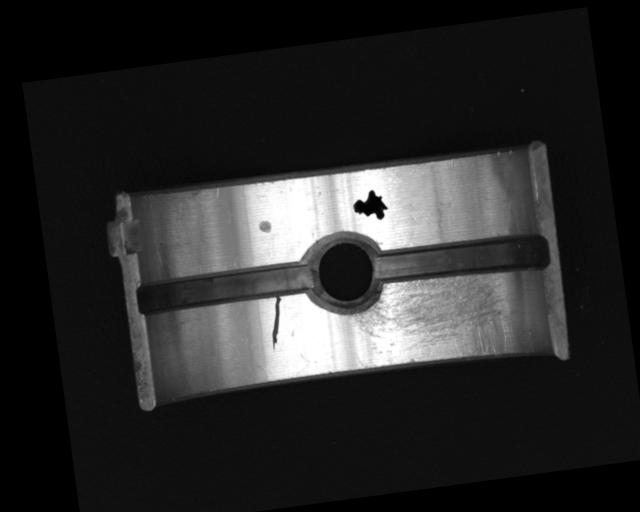blot: (350, 187, 389, 223)
bruise: (257, 219, 273, 234)
gap: (133, 257, 318, 319), (371, 229, 551, 290)
hole: (302, 227, 387, 318)
nick: (263, 295, 288, 352)
scratch: (348, 265, 522, 374)
